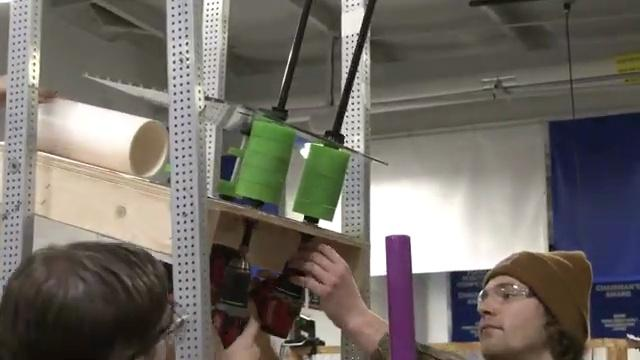CORAL: (37, 98, 169, 177)
